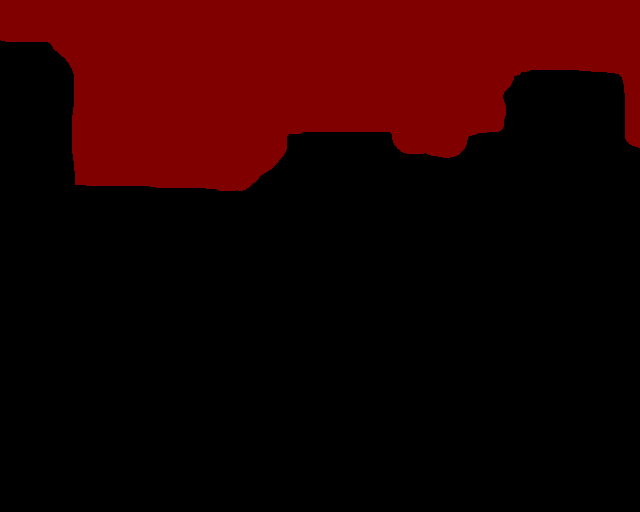Sky: (1, 1, 639, 191)
